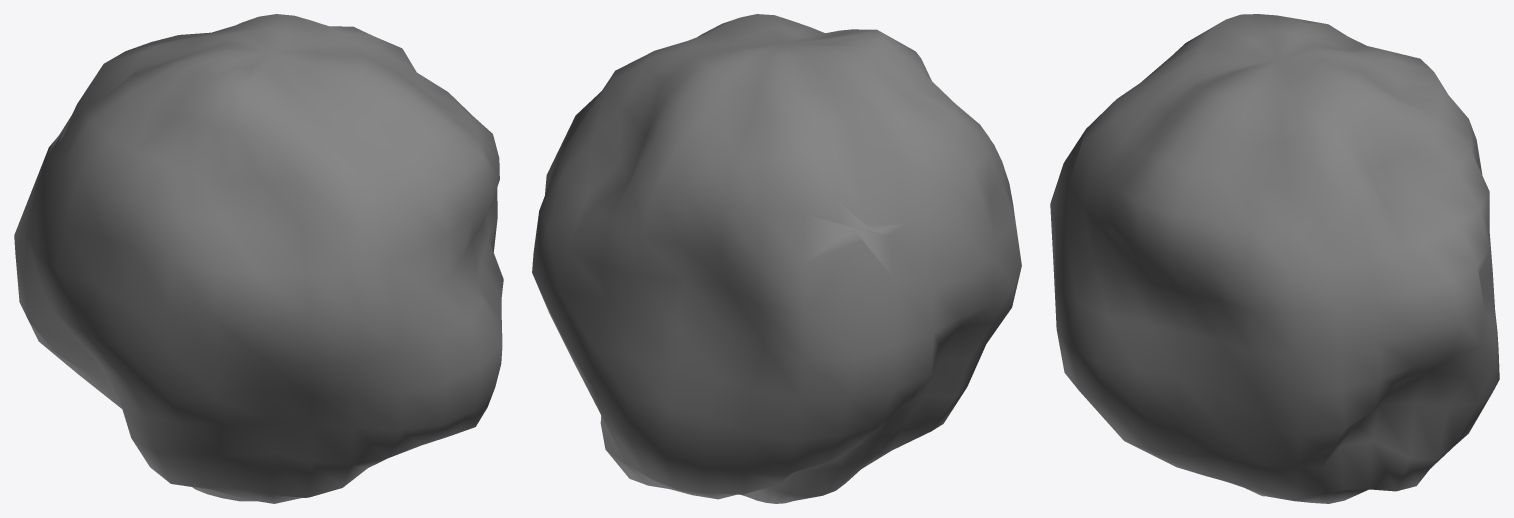
File: boulder.glb
The picture shows the model from 3 angles, left to right: view 1: azimuth 30°, elevation 25°; view 2: azimuth 150°, elevation 25°; view 3: azimuth 270°, elevation 25°; orthographic projection. The views are drawn at different scales.
Parts seen in each view (by area): view 1: Sphere; view 2: Sphere; view 3: Sphere.
Part boxes in pixels (box(x1,y1,x2,y2)): Sphere: box(14, 14, 503, 503); Sphere: box(532, 14, 1021, 503); Sphere: box(1050, 14, 1499, 503).
Size of the model in its own units: 2.2 by 2.2 by 2.09.
Materials: 1 (1 with a texture image).
